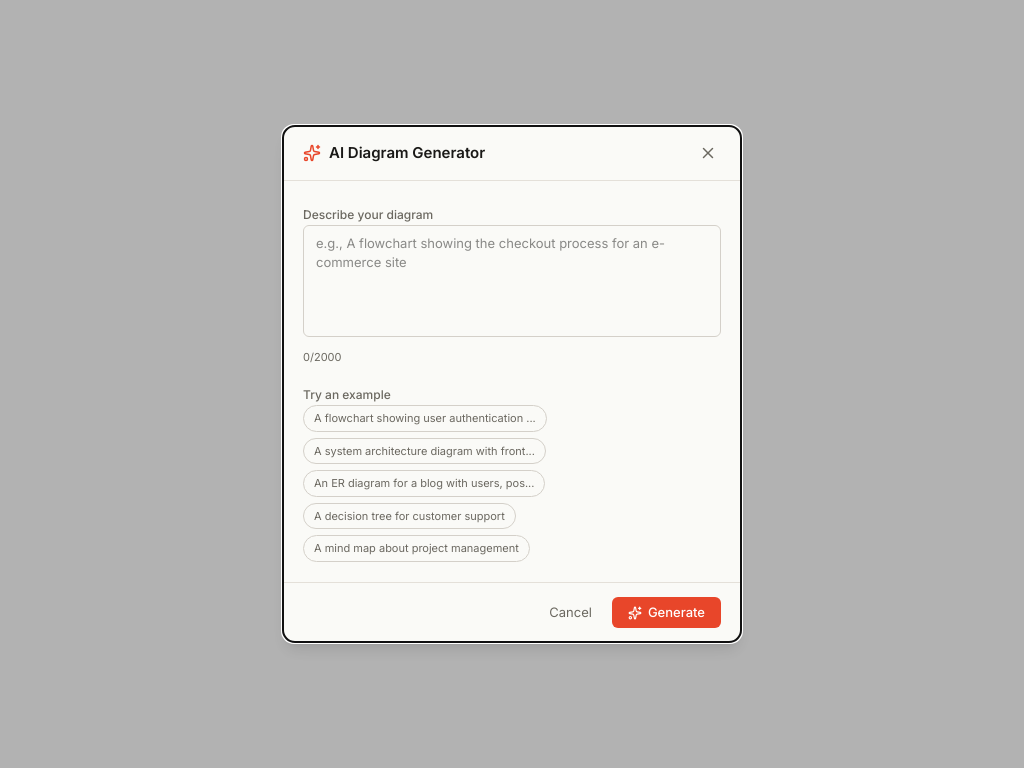
Test case: AIGenerateModal › shows a sign-in message for an expired or missing session
The width and height of the screenshot is (1024, 768).
Replace the text in the text box with placeholder "checkout process" with "A simple architecture diagram" at (512, 281), box [303,225,721,337]
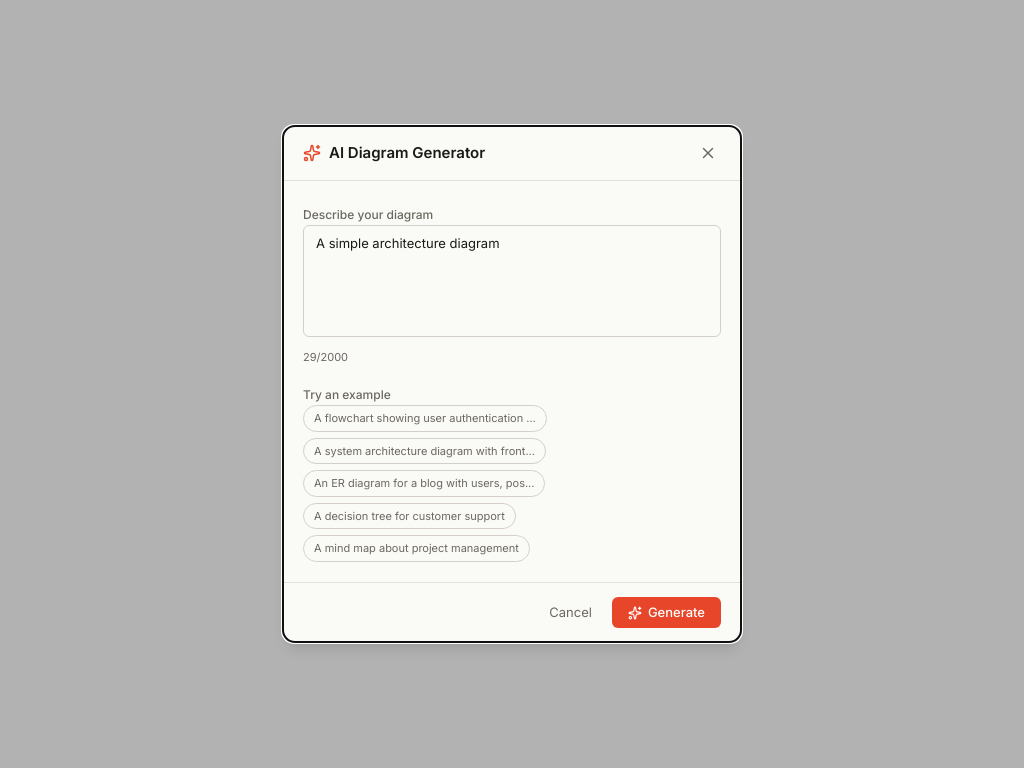
Click the button "Generate".
click(666, 613)  # box [612,597,721,628]
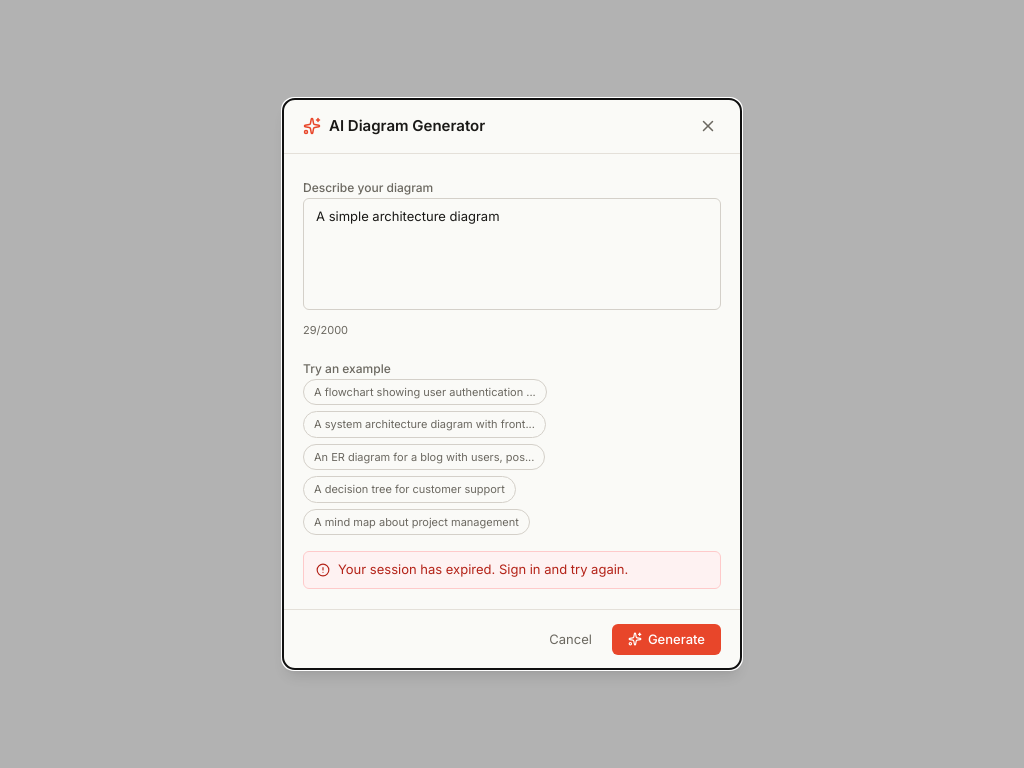
Result: the message shows "Sign in" at [338,561,628,577]
